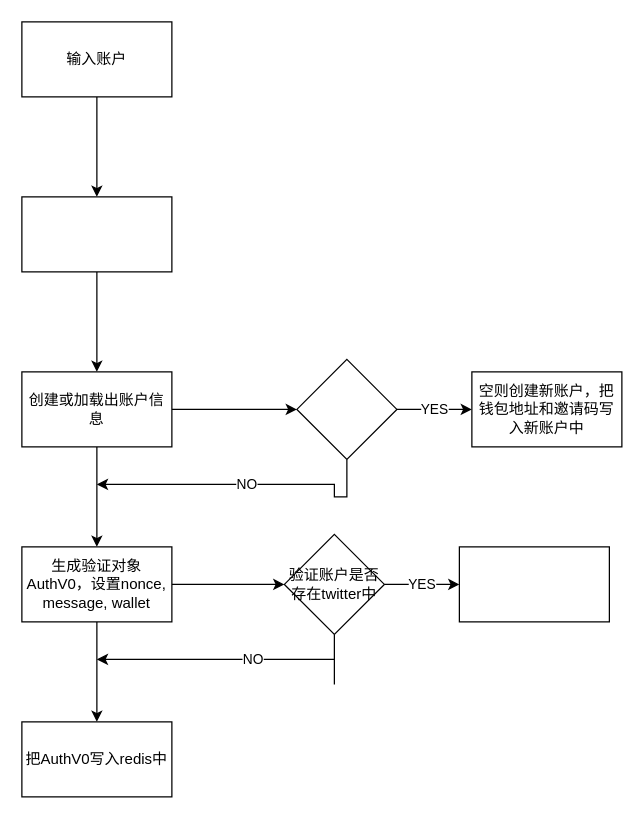
Image size: 644x819. Some labels were removed from this diagram. The shapes that lost their labels are listed below. From the top down, each one's centre as x and y in pixels, then its label:
the point at 96,234: 判断账户钱包地址非空
the point at 346,408: 账户钱包地址是否为空
the point at 533,584: AuthV0设置推特
